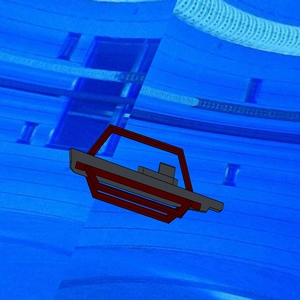submarine: (69, 123, 229, 231)
